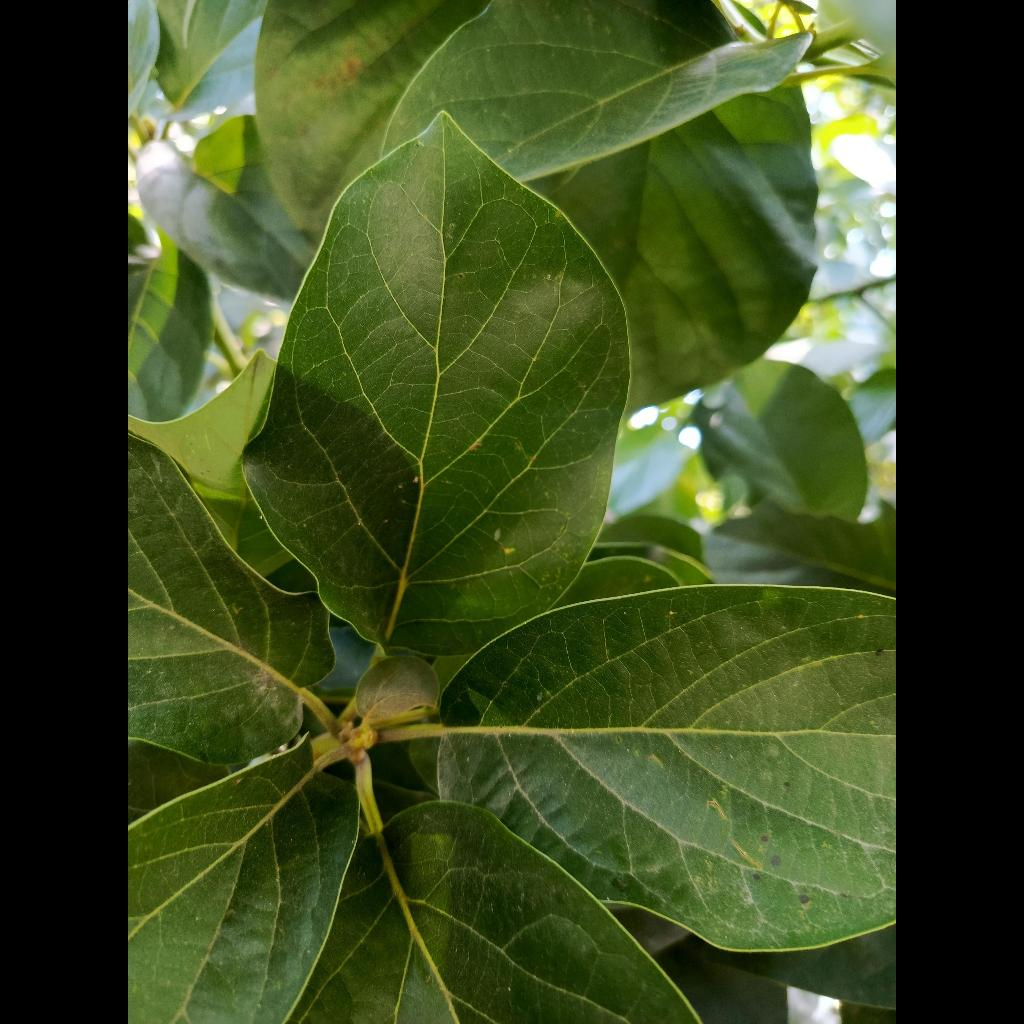hoja_sana: (244, 115, 629, 655), (436, 585, 896, 950)
